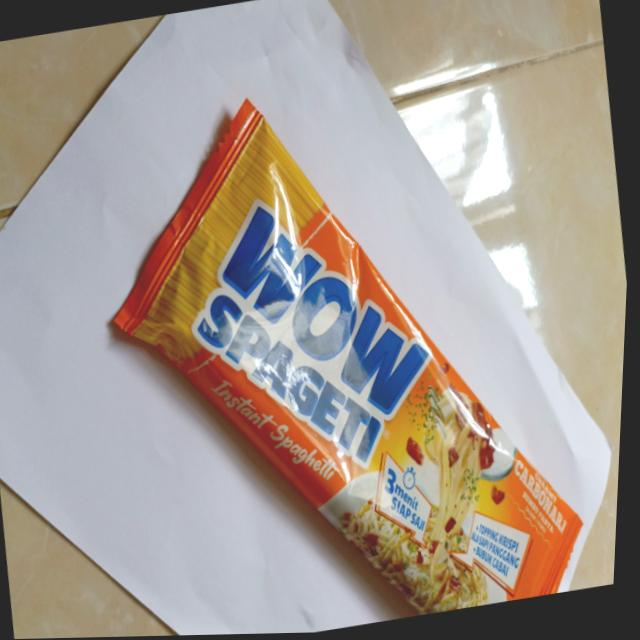indomie-tori-miso: (74, 51, 613, 638)
